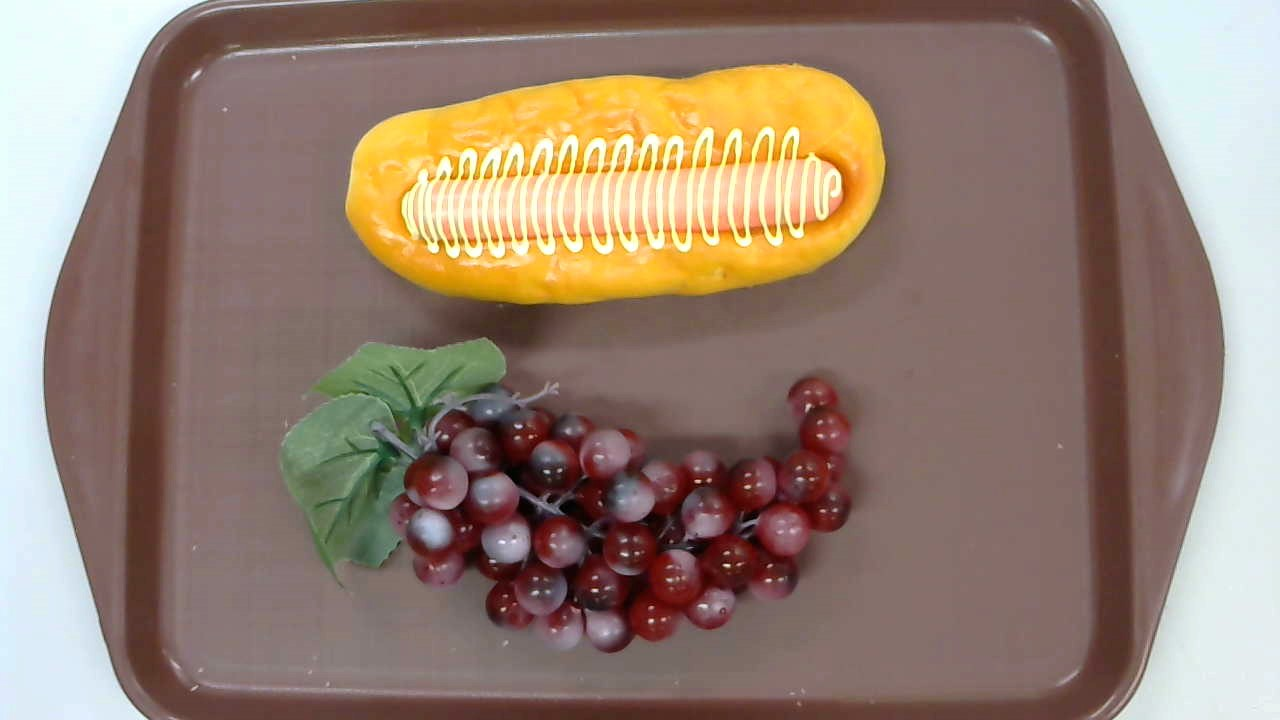grape: (280, 335, 854, 655)
hot dog: (343, 64, 886, 307)
